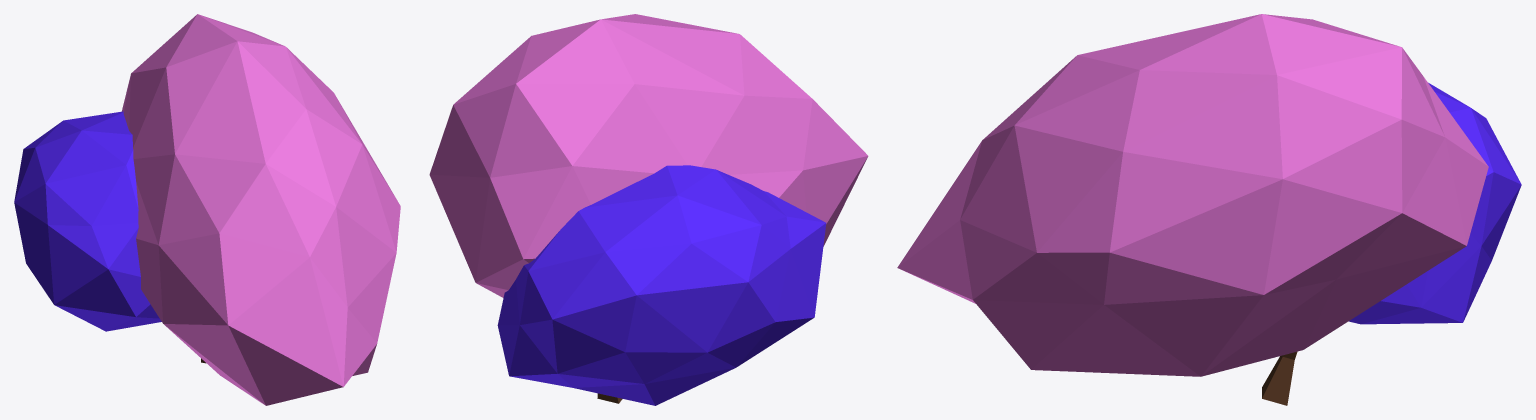
The model's file is bush1.fbx.
The picture shows the model from 3 angles, left to right: view 1: azimuth 30°, elevation 25°; view 2: azimuth 150°, elevation 25°; view 3: azimuth 270°, elevation 25°; orthographic projection. The views are drawn at different scales.
Parts seen in each view (by area): view 1: Circle; view 2: Circle; view 3: Circle.
Boxes of the visible parts, left/top/right/bottom form: Circle: left=14, top=14, right=400, bottom=405; Circle: left=429, top=14, right=868, bottom=405; Circle: left=897, top=14, right=1521, bottom=405.
Size of the model in its own units: 135 by 139 by 198.
